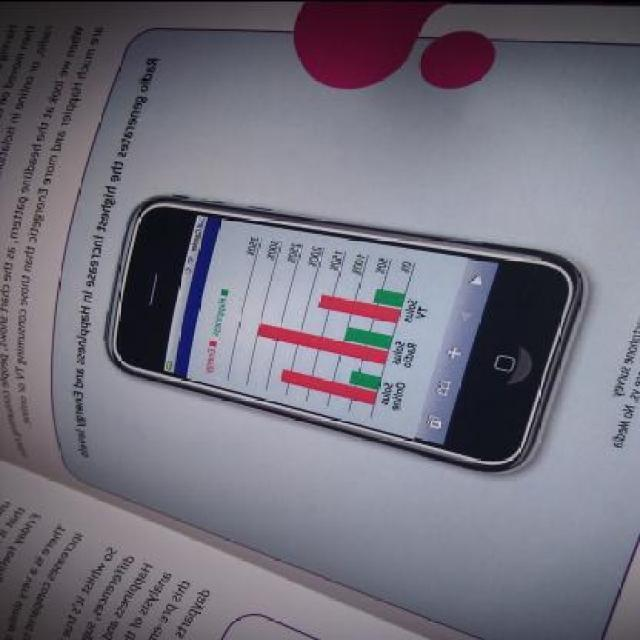phone: (109, 194, 586, 477)
